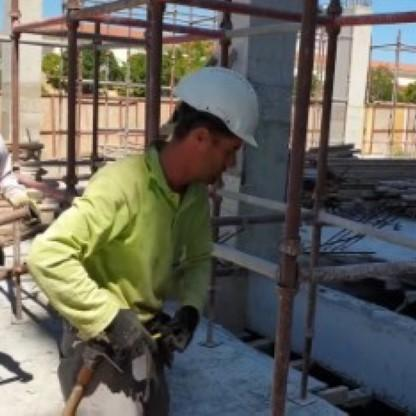helmet: (148, 59, 264, 205)
